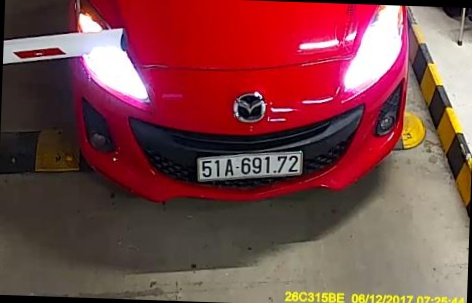plate: (192, 148, 307, 184)
